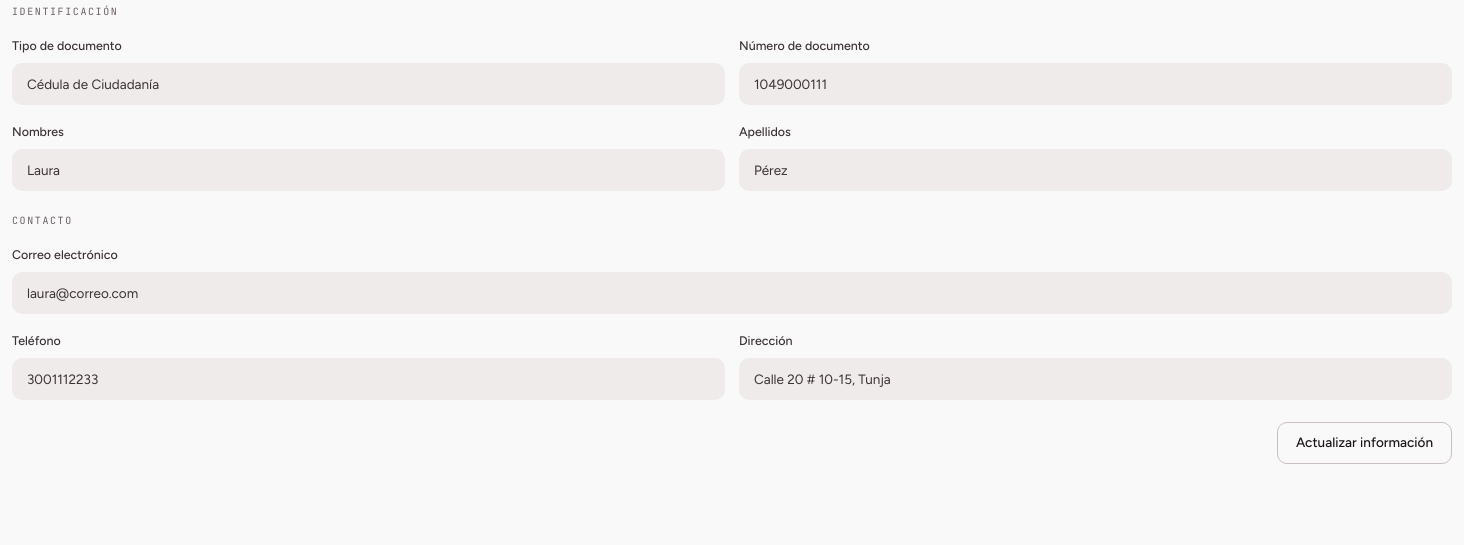
CustomerDataForm saving › sends only the changed fields, trimmed and with a lowercase email
Click the button "Actualizar información".
click(1364, 443)  # box x1=1277 y1=422 x2=1452 y2=464
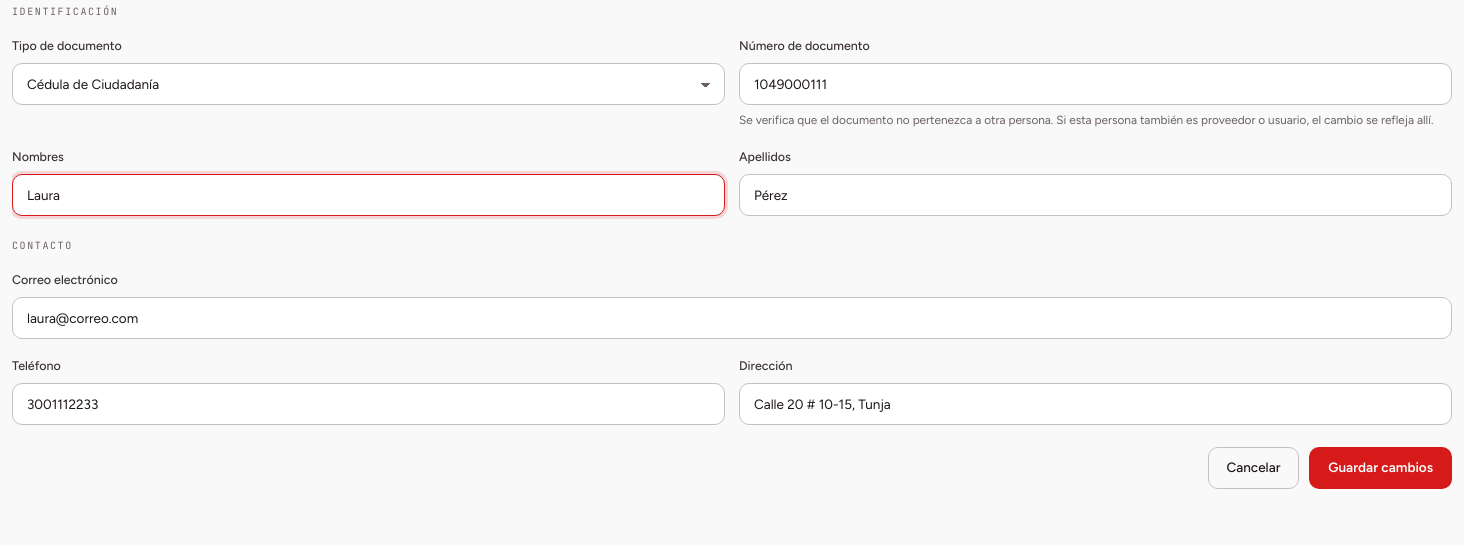
Replace the text in the field labelled "Teléfono" with " 3127778899 " at (368, 404), box x1=12 y1=383 x2=725 y2=425
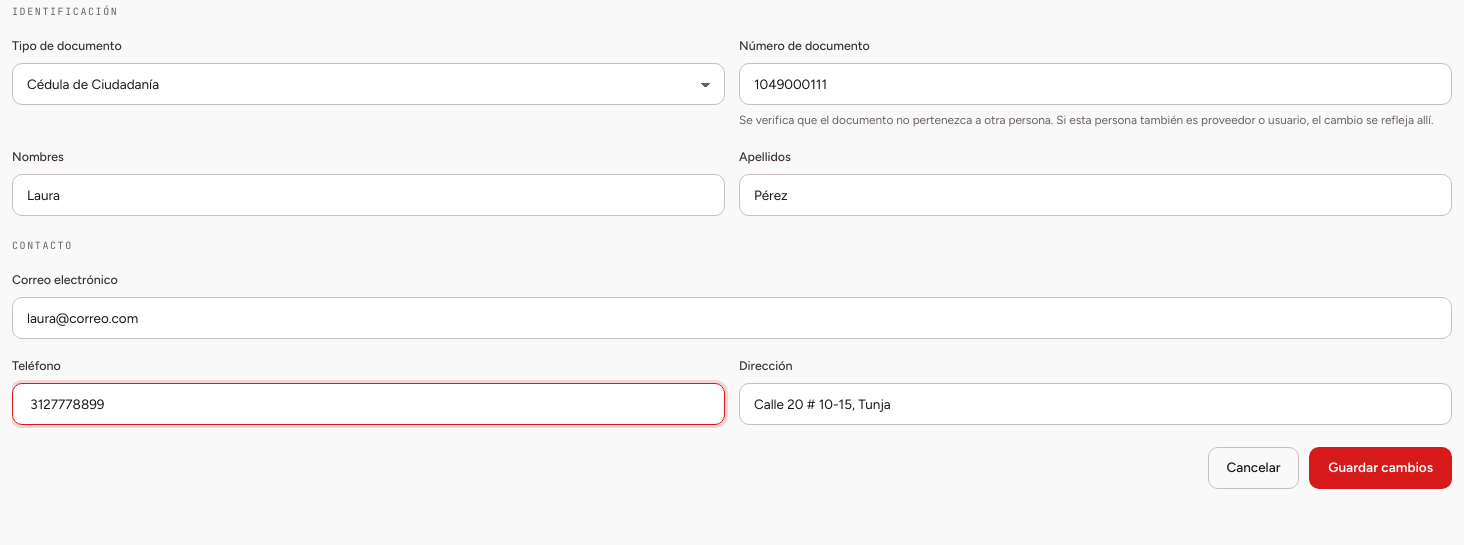
Replace the text in the field labelled "Correo electrónico" with " Laura.P@Correo.com " at (732, 318), box x1=12 y1=297 x2=1452 y2=339
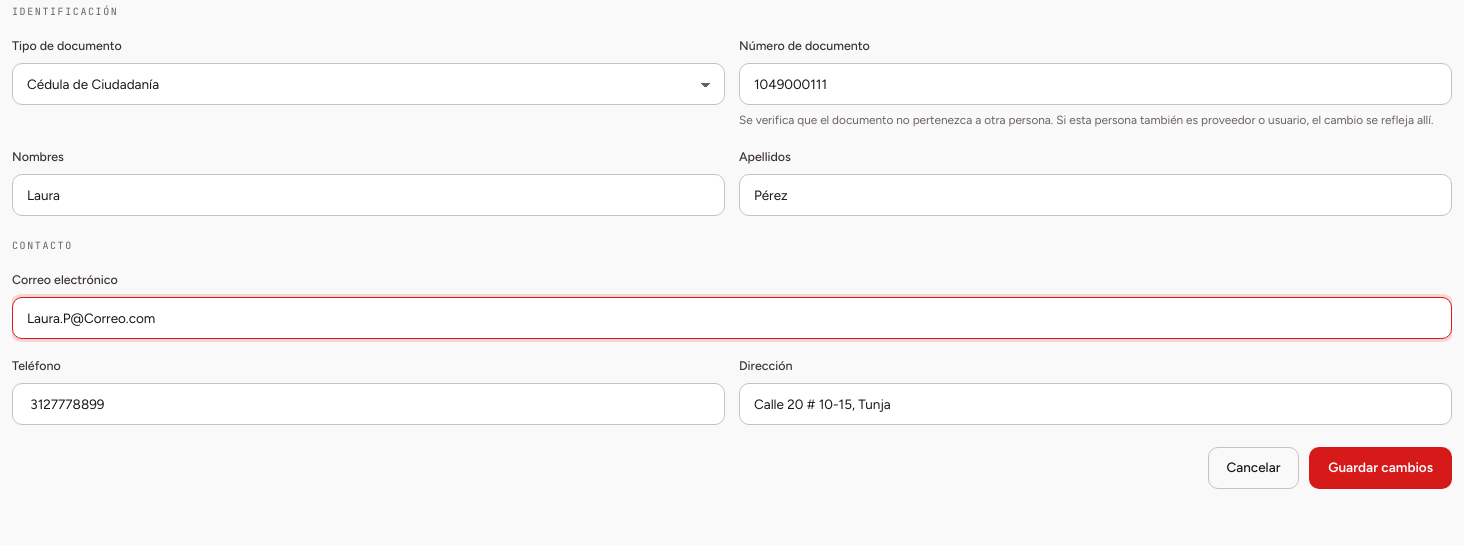
Click the button "Guardar cambios".
click(1381, 468)  # box x1=1309 y1=447 x2=1452 y2=489
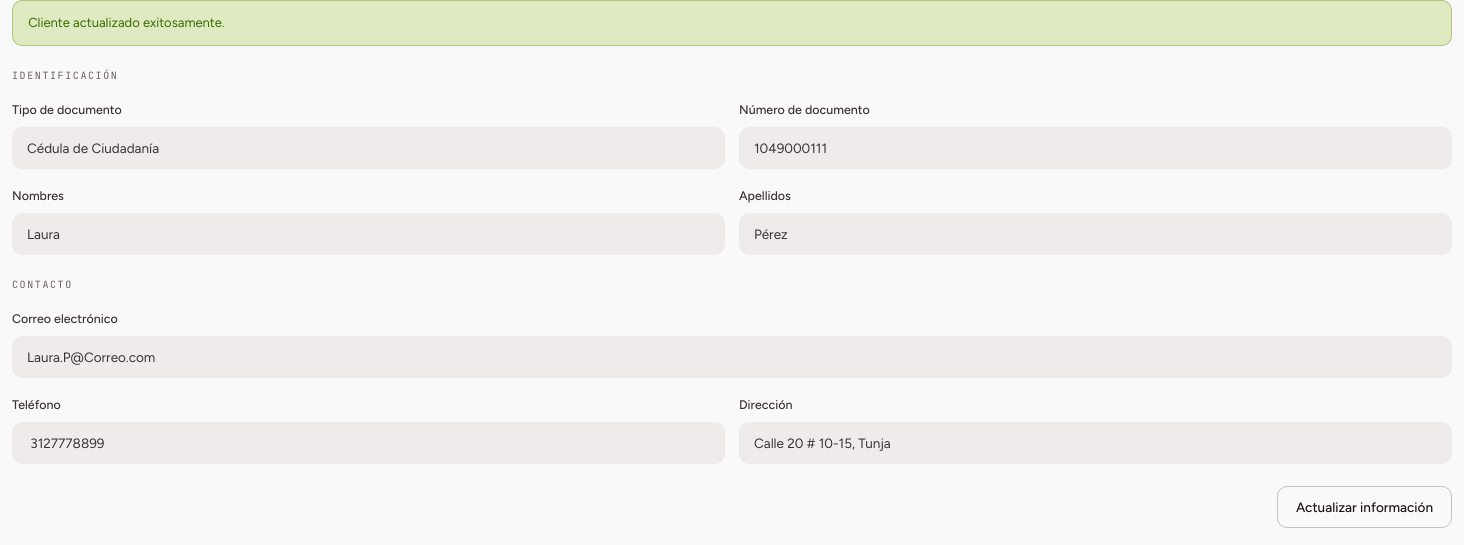
Check: the text "Cliente actualizado exitosamente." is shown, box x1=12 y1=0 x2=1452 y2=46
